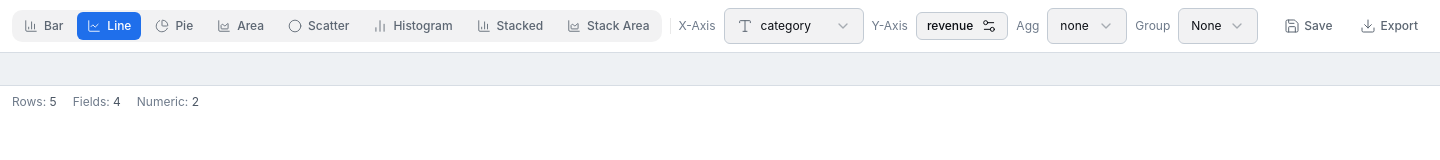
Test: DataCharts › Save button opens save dialog with input and buttons
What coordinates should you click on to do the following:
click the button "Save"
I would click on:
 (1308, 26)
Its box is [1274,12,1342,40].
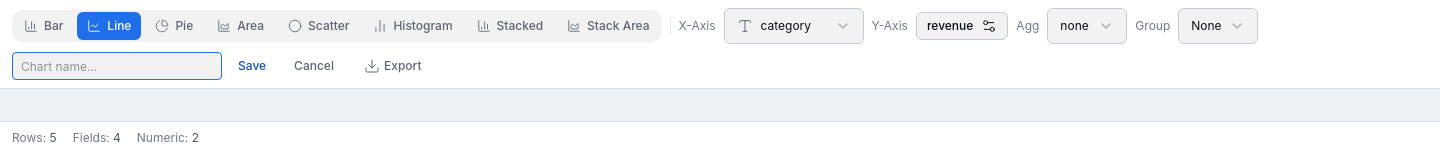
expect the field with placeholder "Chart name..." is shown: met, box [12,52,222,80]
expect the button "Cancel" is shown: met, box [282,52,346,80]
